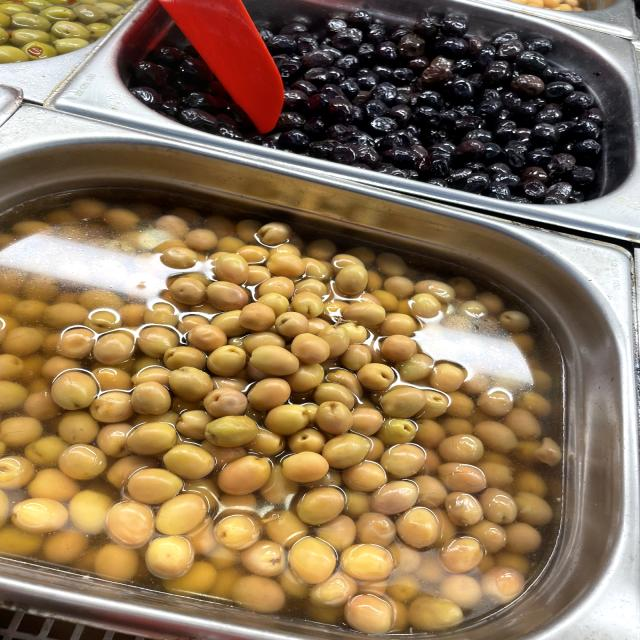olive: (298, 27, 582, 161), (423, 72, 488, 106)
